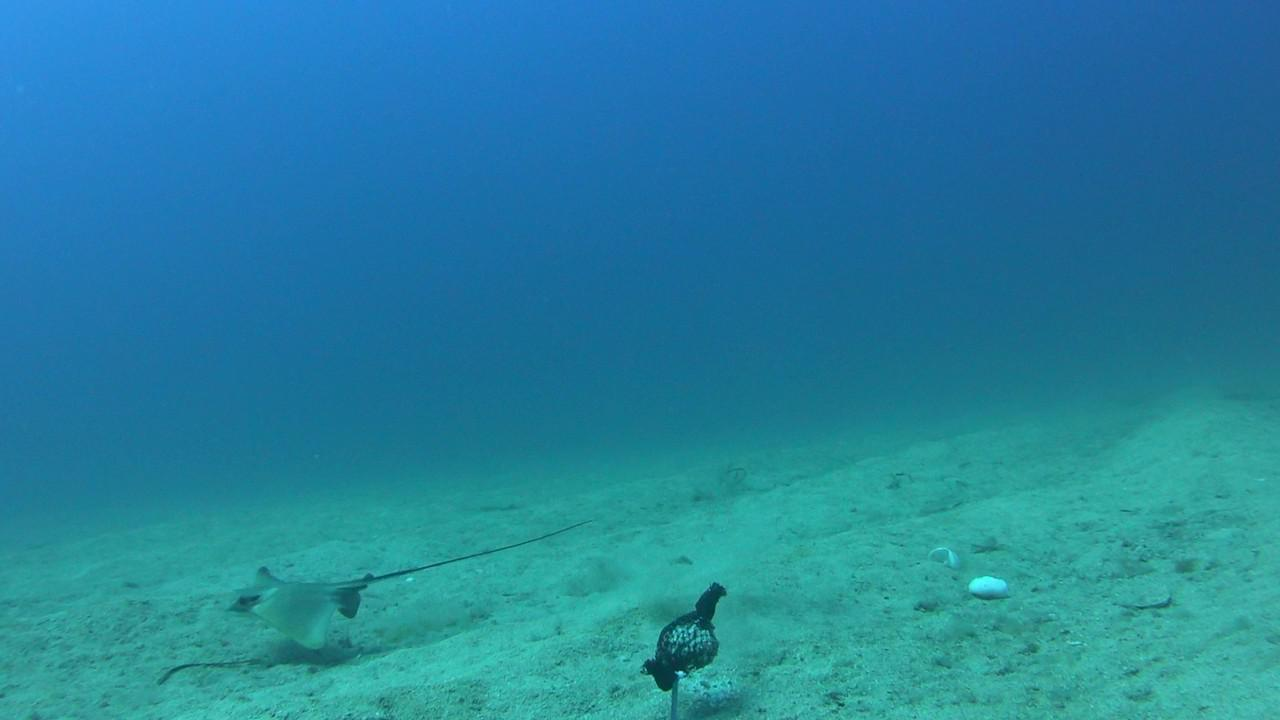myliobatis: (198, 527, 618, 632)
